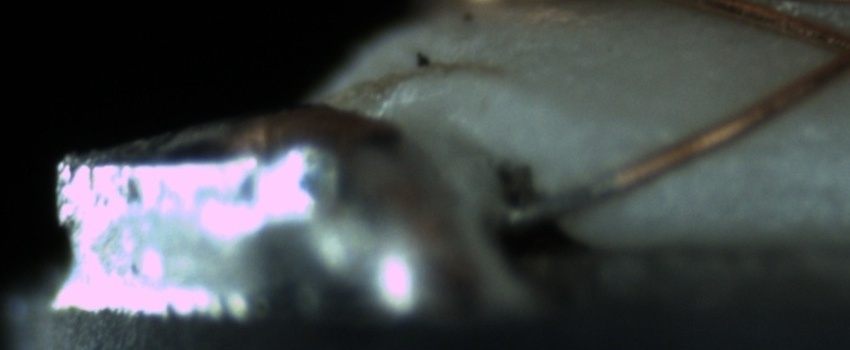CL: (804, 16, 849, 83)
TS: (501, 175, 621, 229)
